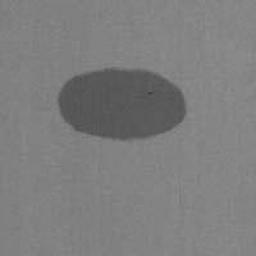Oil spot: (58, 65, 188, 142)
